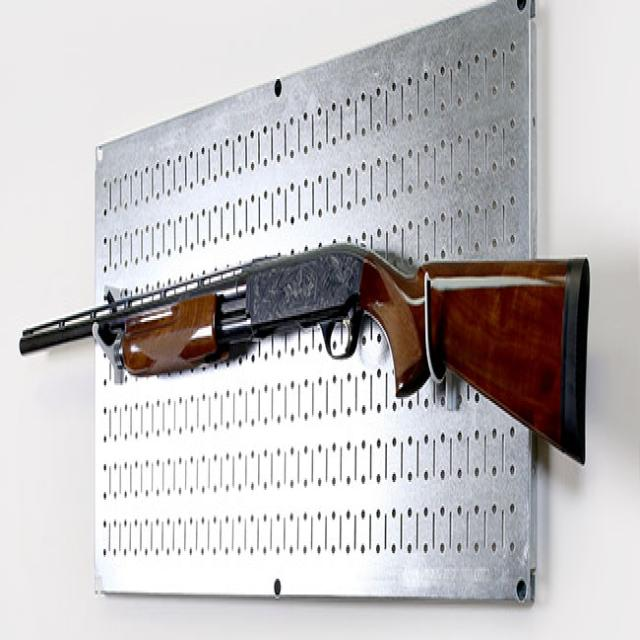ShotGun: (19, 247, 572, 444)
